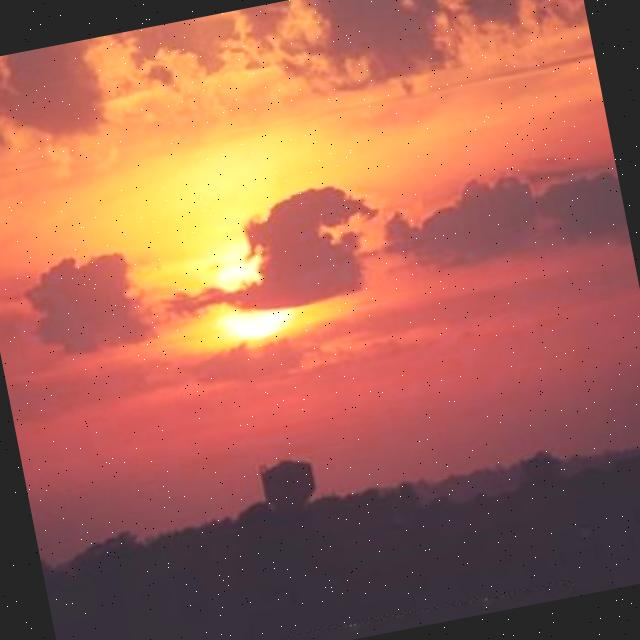As: (1, 1, 640, 483)
